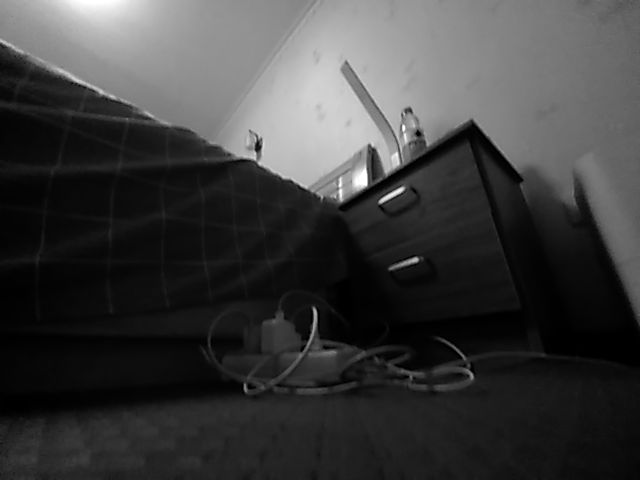power strip: (202, 291, 365, 393)
wire: (363, 338, 546, 395)
